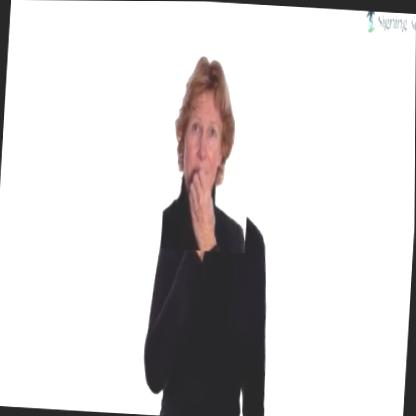Food: (161, 41, 257, 252)
